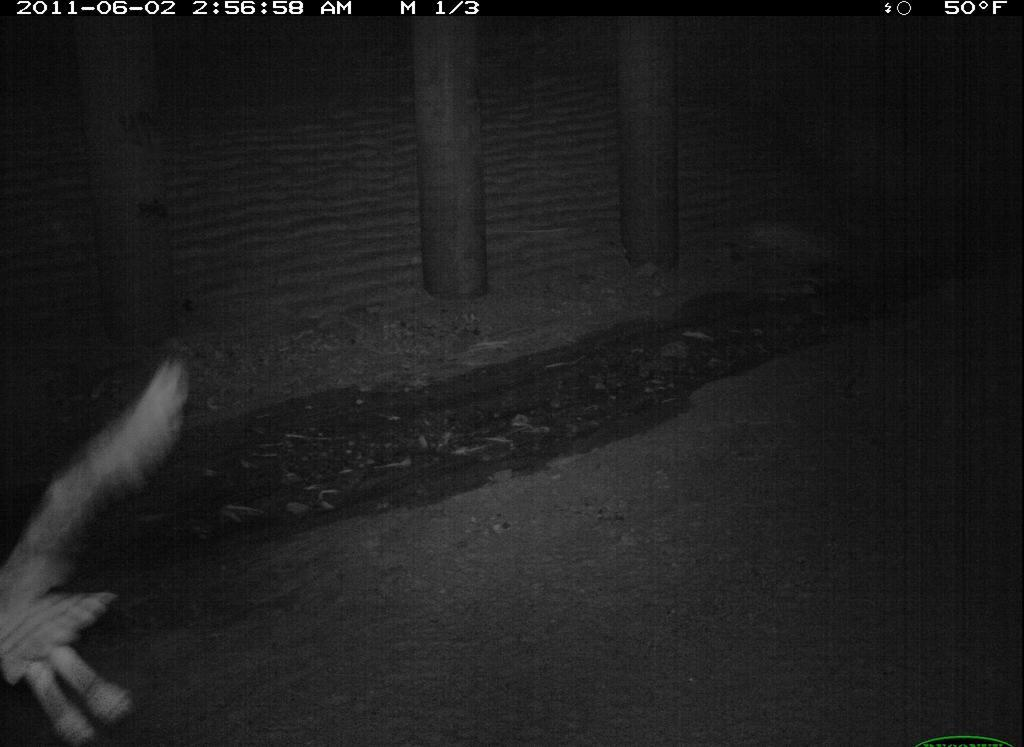bird: (1, 694, 397, 747)
